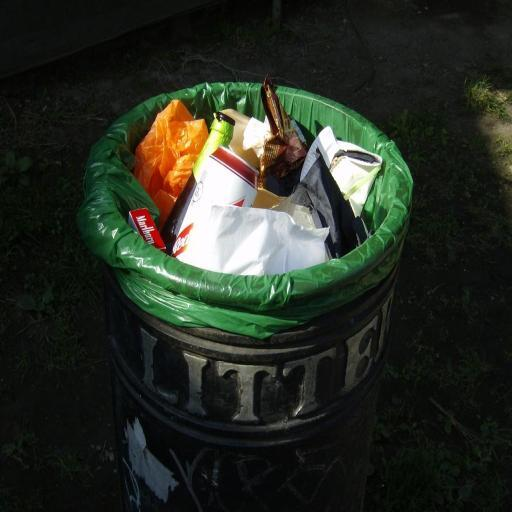trash-can: (80, 64, 422, 494)
